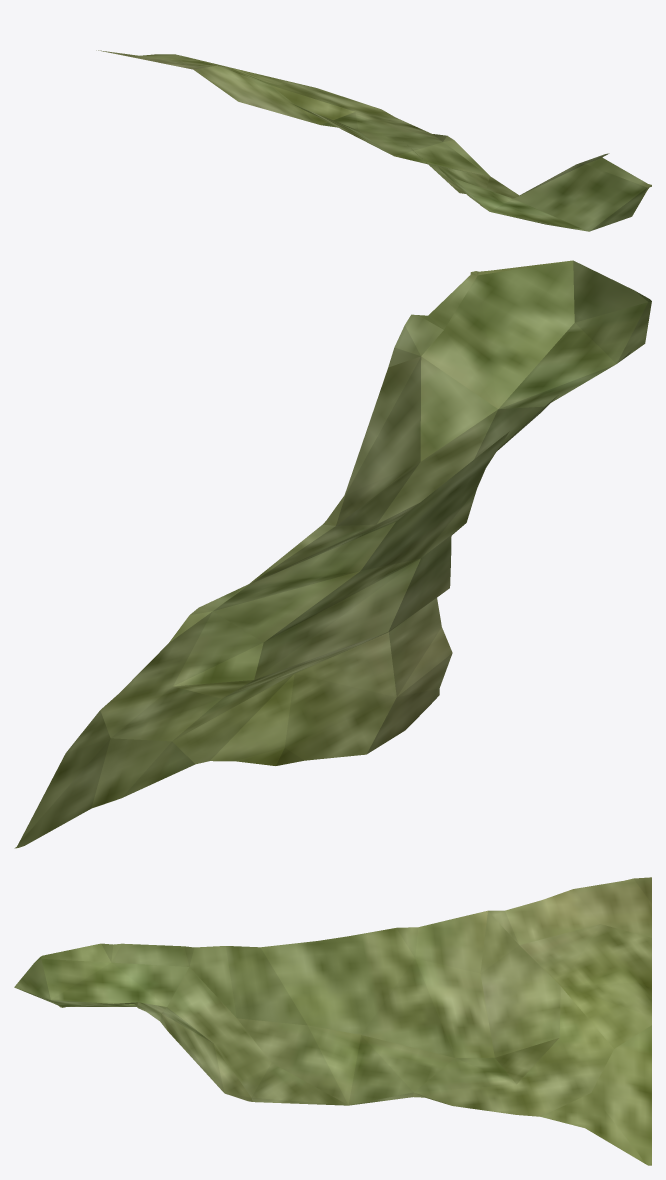
The picture shows the model from 3 angles, top to bottom: view 1: azimuth 30°, elevation 25°; view 2: azimuth 150°, elevation 25°; view 3: azimuth 270°, elevation 25°; orthographic projection. The views are drawn at different scales.
Bounding box in the file's own units: 1.21 × 0.6765 × 2.49.
Materials: 1 (1 with a texture image).
